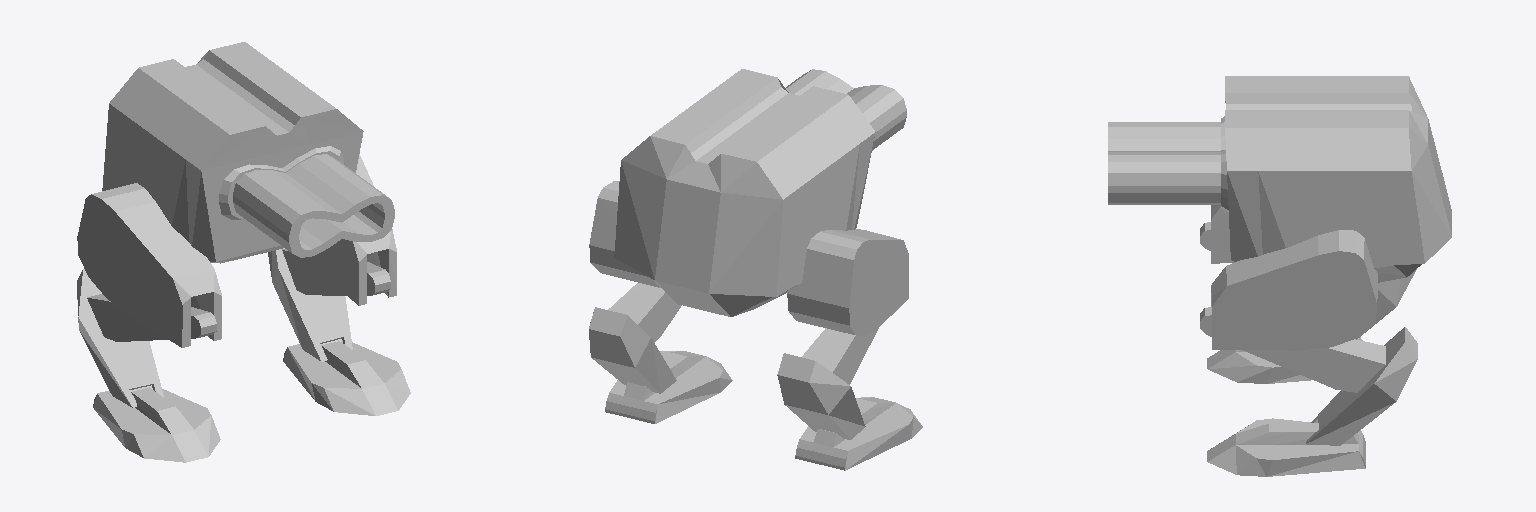
The model's file is Zoomer.obj.
3 views of the same model, side by side, from view 1: azimuth 30°, elevation 25°; view 2: azimuth 150°, elevation 25°; view 3: azimuth 270°, elevation 25° (orthographic).
Parts seen in each view (by area): view 1: Torso, R_thigh, Gun, L_foot, R_foot, R_amkle, L_ankle, L_Thigh, R_shin, L_shin; view 2: Torso, R_thigh, L_foot, R_foot, R_amkle, L_ankle, Gun, L_Thigh, R_shin, L_shin; view 3: Torso, L_Thigh, Gun, L_foot, L_ankle, L_shin, R_foot, R_thigh, R_amkle.
Part boxes in pixels (x1,y1,x2,y2): Torso: (102, 42, 363, 263); R_thigh: (77, 183, 221, 347); Gun: (219, 146, 394, 257); L_foot: (283, 341, 410, 415); R_foot: (93, 387, 220, 462); R_amkle: (77, 269, 163, 407); L_ankle: (268, 248, 352, 361); L_Thigh: (305, 154, 396, 305); R_shin: (87, 294, 216, 341); L_shin: (282, 249, 390, 295); Torso: (614, 69, 875, 316); R_thigh: (787, 229, 908, 335); L_foot: (605, 351, 732, 423); R_foot: (795, 397, 922, 470); R_amkle: (777, 353, 865, 439); L_ankle: (589, 307, 676, 393); Gun: (786, 69, 906, 150); L_Thigh: (589, 181, 660, 287); R_shin: (802, 328, 878, 384); L_shin: (608, 283, 681, 342); Torso: (1225, 76, 1451, 282); L_Thigh: (1211, 230, 1377, 350); Gun: (1108, 116, 1228, 212); L_foot: (1207, 418, 1365, 476); L_ankle: (1306, 327, 1417, 445); L_shin: (1200, 307, 1385, 392); R_foot: (1207, 337, 1362, 383); R_thigh: (1211, 205, 1234, 263); R_amkle: (1356, 269, 1416, 339).
Size of the model in its own units: 1.35 by 1.44 by 1.45.